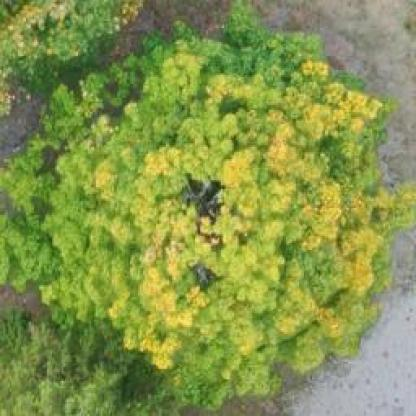Deciduous Tree: (0, 24, 405, 390), (0, 306, 242, 416), (0, 0, 123, 87)
